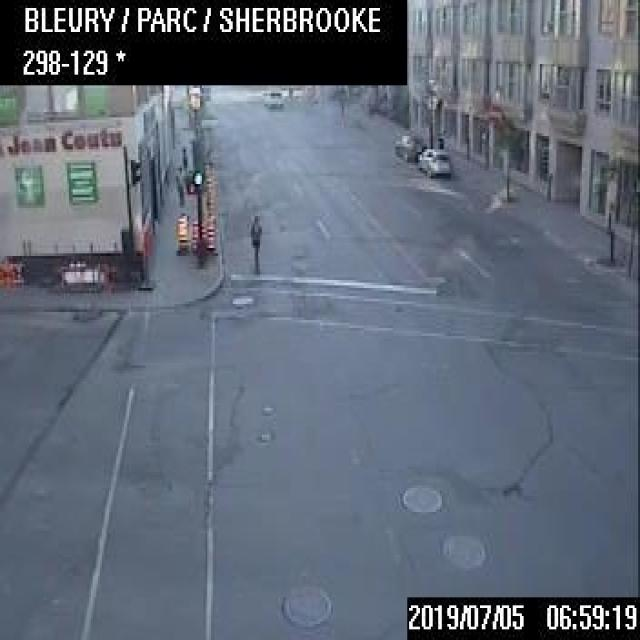construction: (174, 210, 186, 254), (204, 212, 215, 251), (190, 217, 197, 252), (199, 220, 204, 239)
pedestrian: (247, 208, 262, 272), (173, 160, 185, 208)
vehicle: (416, 146, 449, 175), (393, 132, 425, 160), (261, 90, 282, 106)
